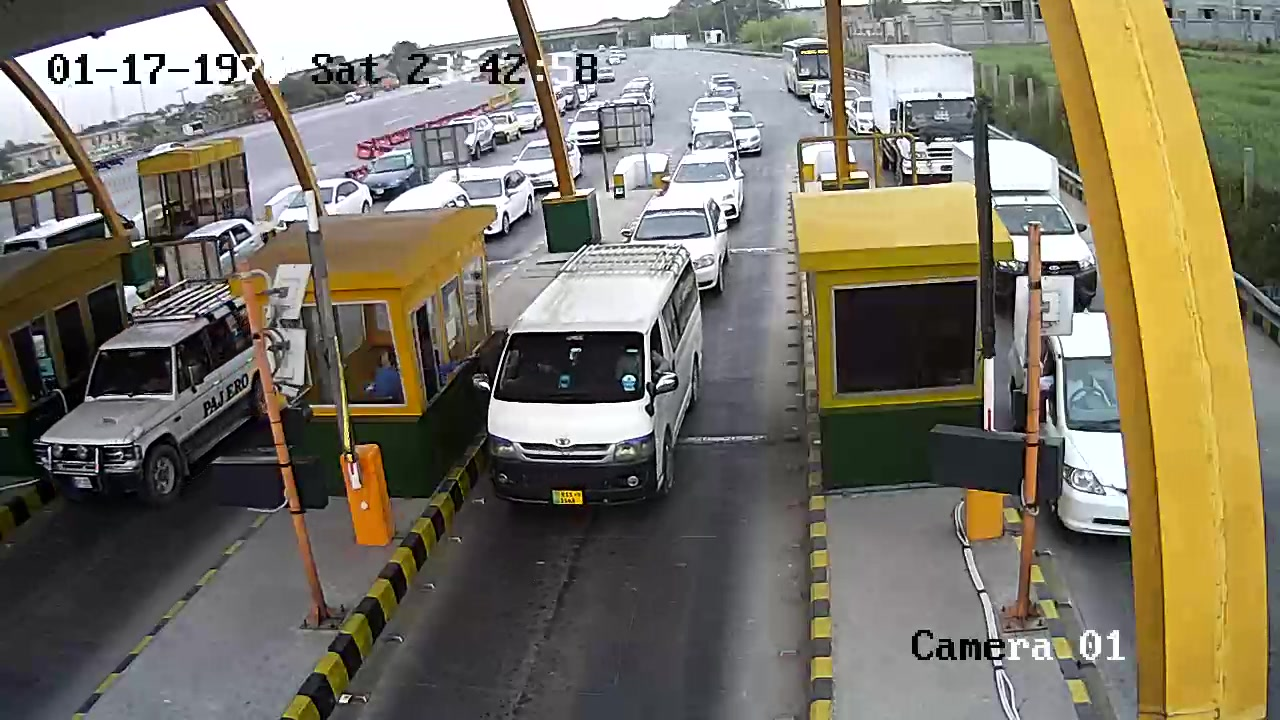F2: (476, 237, 716, 527)
